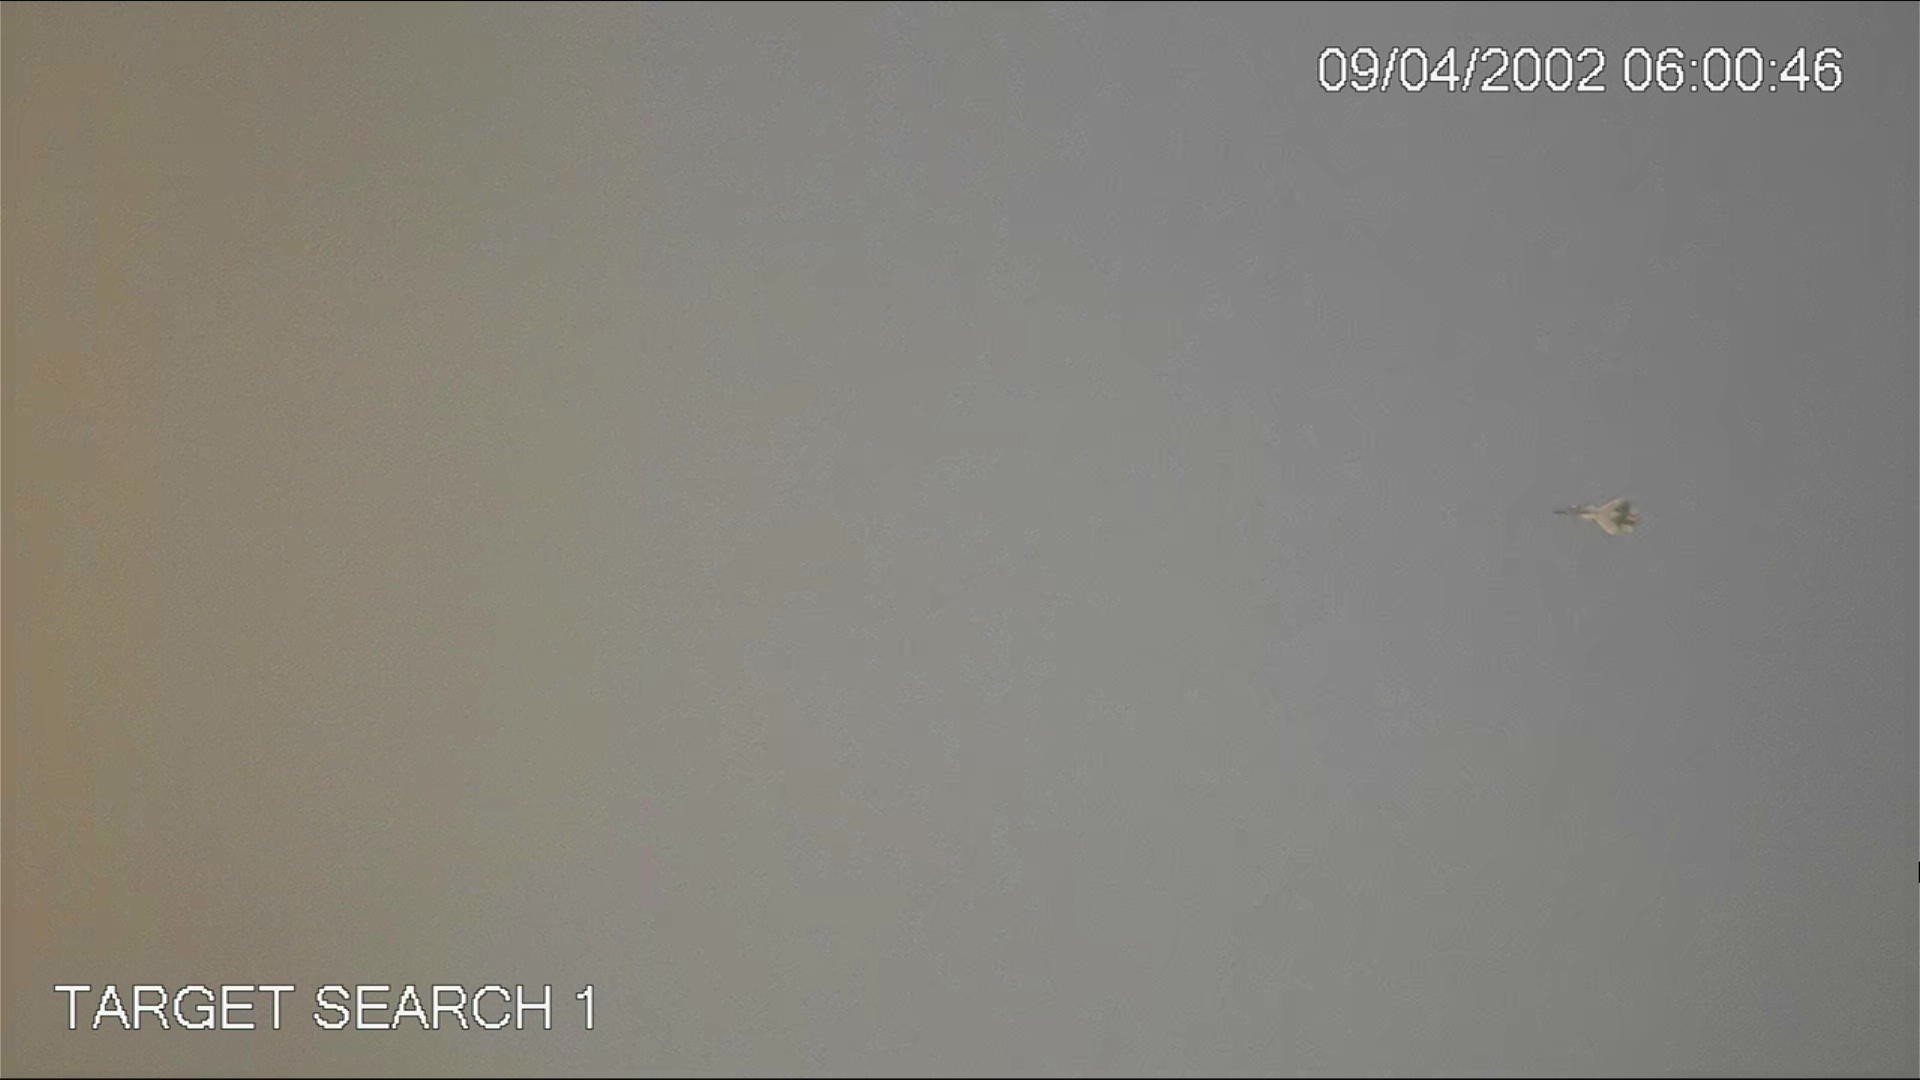SU_30: (1551, 491, 1642, 541)
